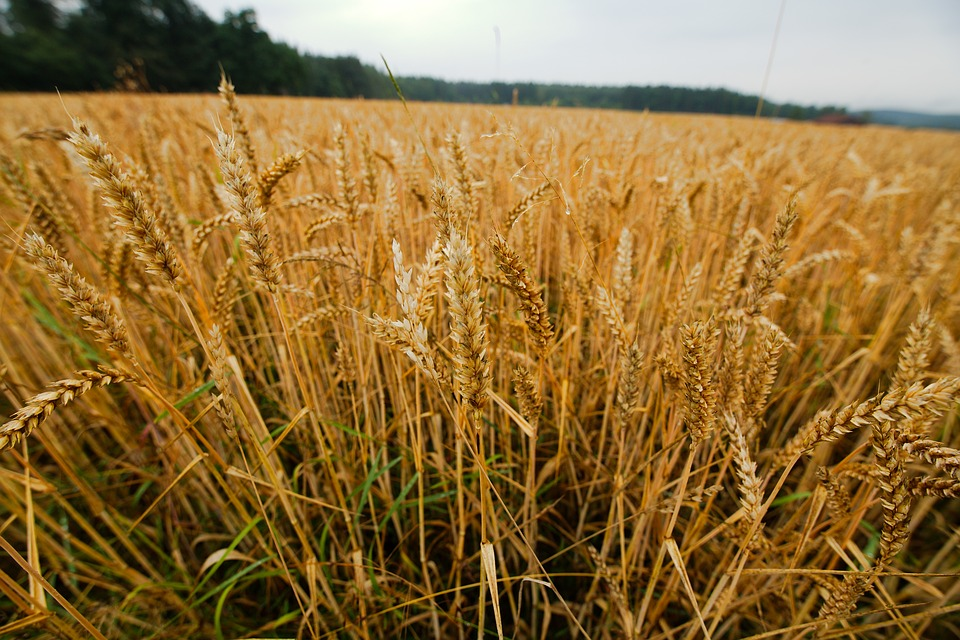Wheat: (80, 43, 789, 486)
